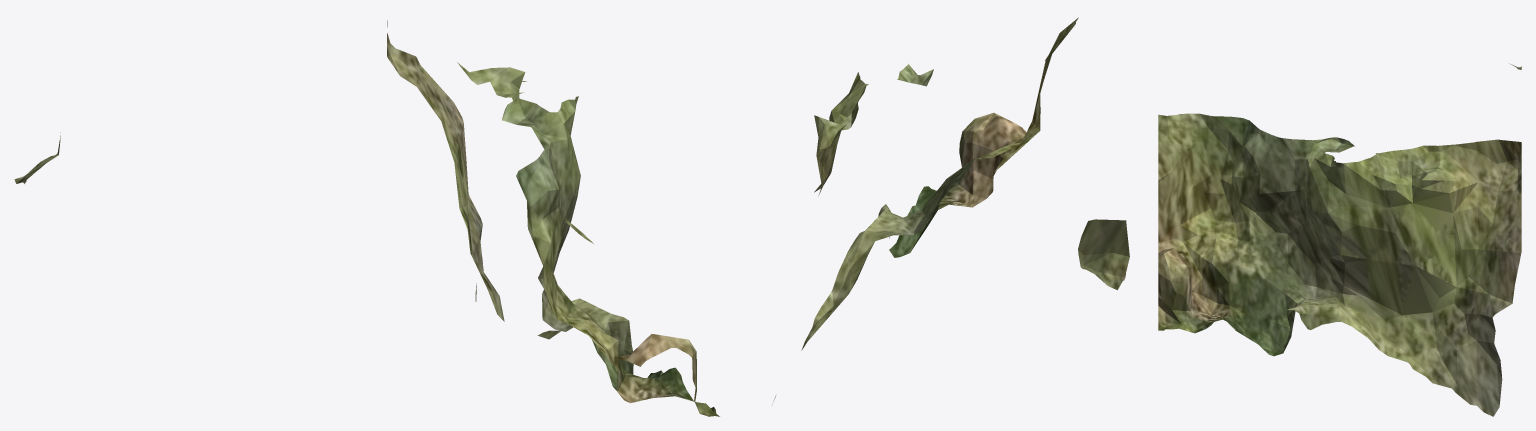
3 renders of one model, left to right at view 1: azimuth 30°, elevation 25°; view 2: azimuth 150°, elevation 25°; view 3: azimuth 270°, elevation 25°, orthographic. The views are drawn at different scales.
Bounding box in the file's own units: 5.9 × 4.47 × 5.9.
2 materials, 2 textured.
